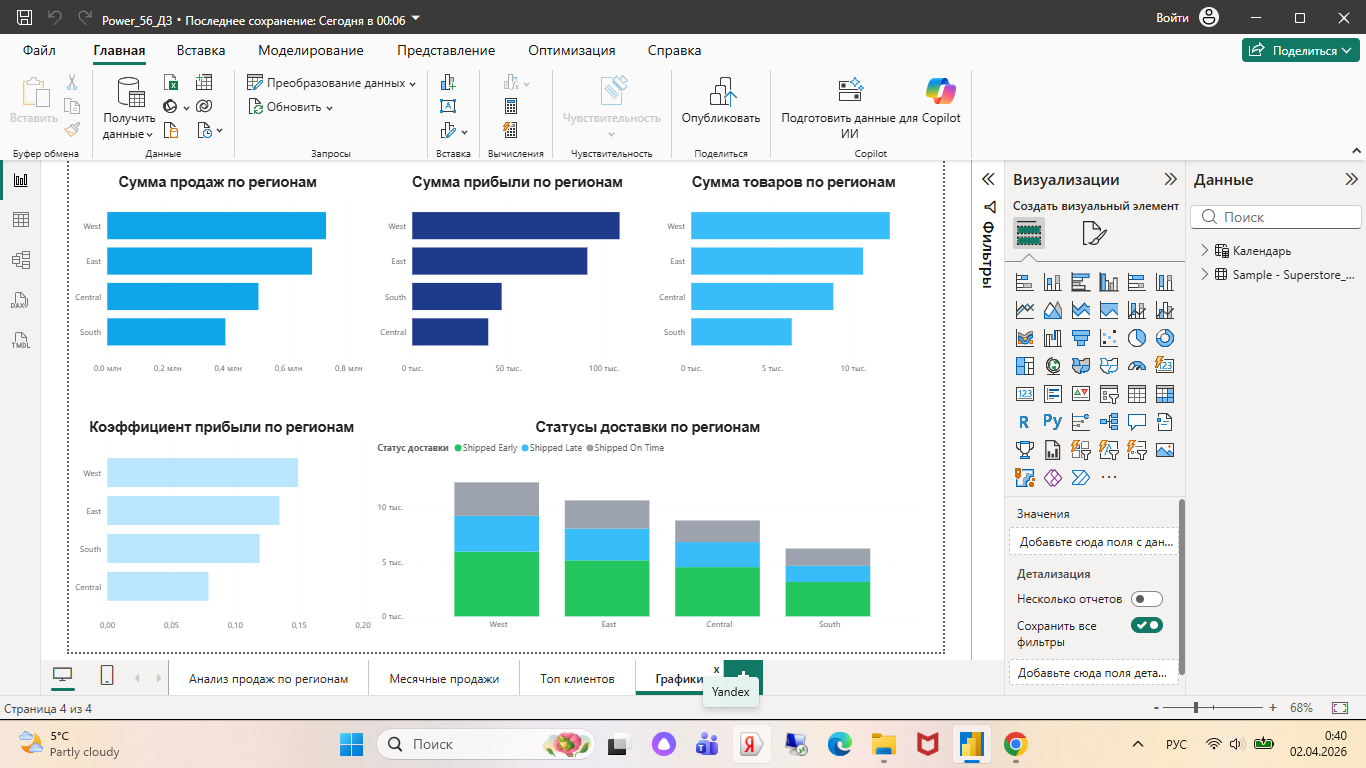

The page's visual inventory and layout, read from the dashboard file:
{"tool":"powerbi","page":{"name":"Графики","canvas":[1280,720],"ordinal":3},"visuals":[{"type":"barChart","title":"Сумма продаж по регионам","fields":{"Category":["Sample - Superstore_Orders.Region"],"Y":["Sum(Sample - Superstore_Orders.Sales)"]},"box":[0,20.2,435.1,302.4],"z":0},{"type":"barChart","title":"Сумма прибыли по регионам","fields":{"Category":["Sample - Superstore_Orders.Region"],"Y":["Sum(Sample - Superstore_Orders.Profit)"]},"box":[446.8,20.2,419.9,302.4],"z":1000},{"type":"barChart","title":"Сумма товаров по регионам","fields":{"Category":["Sample - Superstore_Orders.Region"],"Y":["Sum(Sample - Superstore_Orders.Quantity)"]},"box":[855,20.2,411.5,302.4],"z":2000},{"type":"barChart","title":"Коэффициент прибыли по регионам","fields":{"Category":["Sample - Superstore_Orders.Region"],"Y":["Sample - Superstore_Orders.Коэффициент прибыли"]},"box":[0,379.6,446.8,319.2],"z":3000},{"type":"columnChart","title":"Статусы доставки по регионам","fields":{"Category":["Sample - Superstore_Orders.Region"],"Y":["Sum(Sample - Superstore_Orders.Quantity)"],"Series":["Sample - Superstore_Orders.Ship Status"]},"box":[446.8,379.6,801.3,319.2],"z":4000}]}

Visuals, with their boxes on the page's 1280x720 design canvas (x1, y1, x2, y2). These are canvas units, not pixel positions in the 1366x768 screenshot, which may show the page scaled, cropped or inside an application window:
"Сумма продаж по регионам" barChart: (left=0, top=20, right=435, bottom=323)
"Сумма прибыли по регионам" barChart: (left=447, top=20, right=867, bottom=323)
"Сумма товаров по регионам" barChart: (left=855, top=20, right=1266, bottom=323)
"Коэффициент прибыли по регионам" barChart: (left=0, top=380, right=447, bottom=699)
"Статусы доставки по регионам" columnChart: (left=447, top=380, right=1248, bottom=699)
